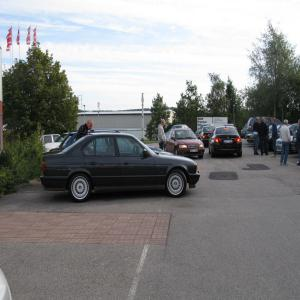Vehicle-registration-plate: (224, 140, 234, 144), (191, 151, 199, 153)
